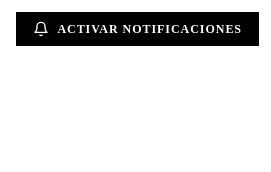
Scenario: EnableNotificationsButton: enabling › asks permission, registers the worker, subscribes with the VAPID key and saves
This screenshot has width=271, height=172.
Click the button. click: (138, 29)
box: [16,12,259,46]
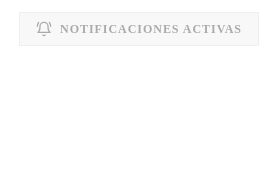
Expected: the button "Notificaciones activas" is shown, [19,12,259,46]
